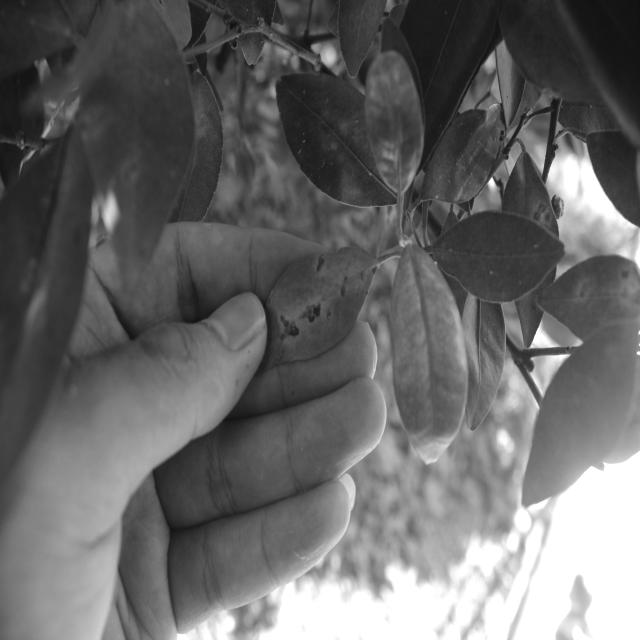canker: (270, 253, 375, 351), (75, 102, 151, 213), (572, 259, 640, 315), (530, 194, 557, 237)
